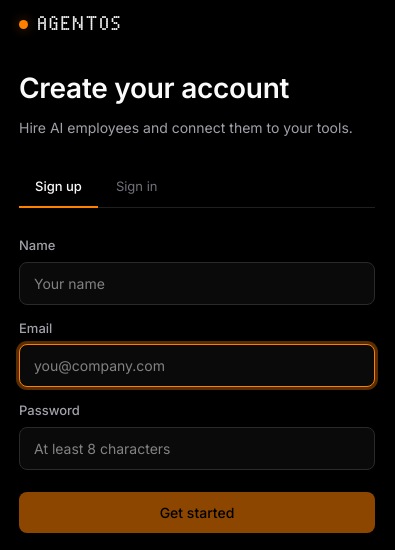
Test: Login › keeps the submit button disabled until the form is valid
Expected: the button "Get started" is disabled, [19, 492, 375, 533]
Type "Ada" into the field with placeholder "Your name" at (197, 283), box [19, 262, 375, 305]
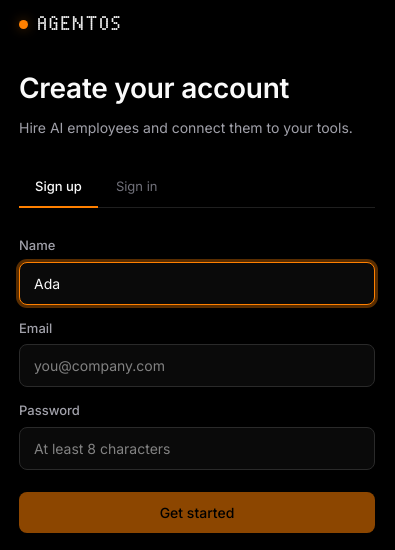
Type "ada@example.com" into the field with placeholder "you@company.com" at (197, 366), box [19, 344, 375, 387]
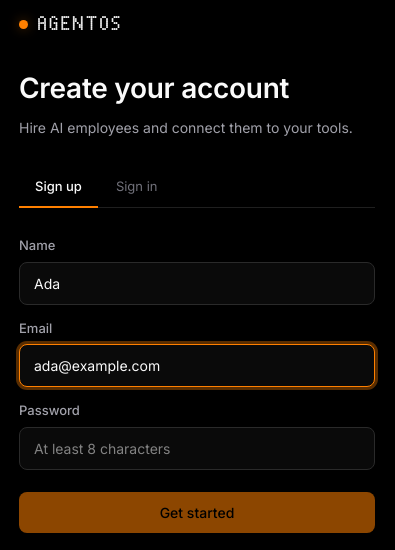
Type "supersecret" into the password field with placeholder "At least 8 characters" at (197, 448), box [19, 427, 375, 470]
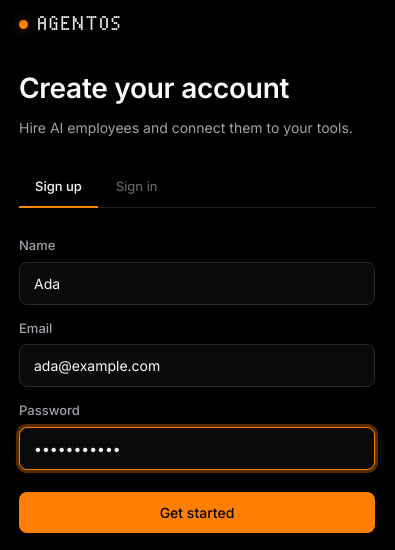
Now the button "Get started" is enabled, box [19, 492, 375, 533]
